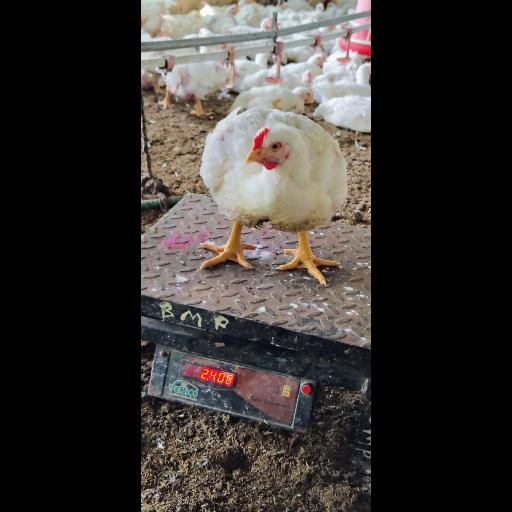chick: (199, 107, 347, 286)
